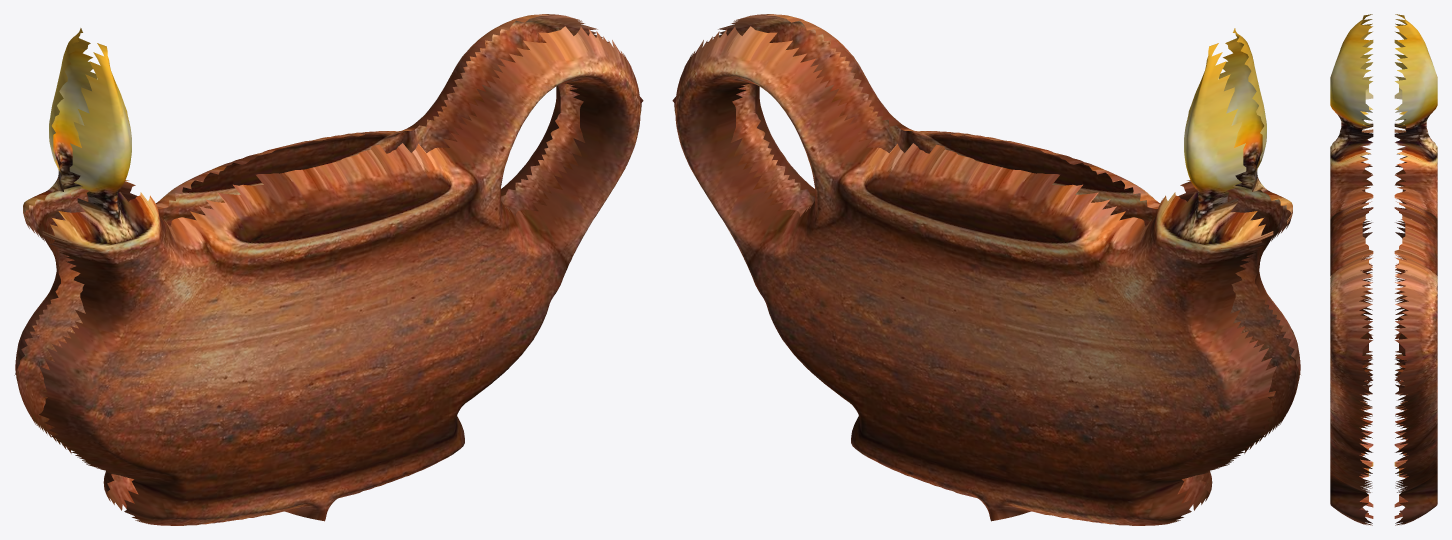
File: v4-tavern-common-scatter-lamp.glb
3 renders of one model, left to right at view 1: azimuth 30°, elevation 25°; view 2: azimuth 150°, elevation 25°; view 3: azimuth 270°, elevation 25°, orthographic. The views are drawn at different scales.
Visible parts, largest first — view 1: v4-tavern-common-scatter-lamp; view 2: v4-tavern-common-scatter-lamp; view 3: v4-tavern-common-scatter-lamp.
Part boxes in pixels (<box>): v4-tavern-common-scatter-lamp: <box>14,14,643,525</box>; v4-tavern-common-scatter-lamp: <box>672,14,1300,525</box>; v4-tavern-common-scatter-lamp: <box>1330,14,1437,525</box>.
Bounding box in the file's own units: 0.3381 × 0.2734 × 0.0672.
1 material, 1 textured.
